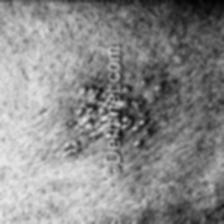Toxin: (46, 82, 105, 164), (127, 60, 173, 158)
